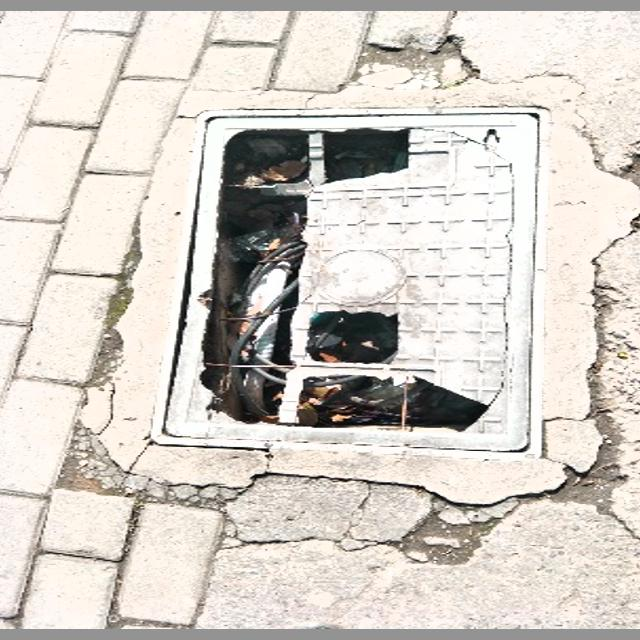broke: (150, 106, 549, 456)
